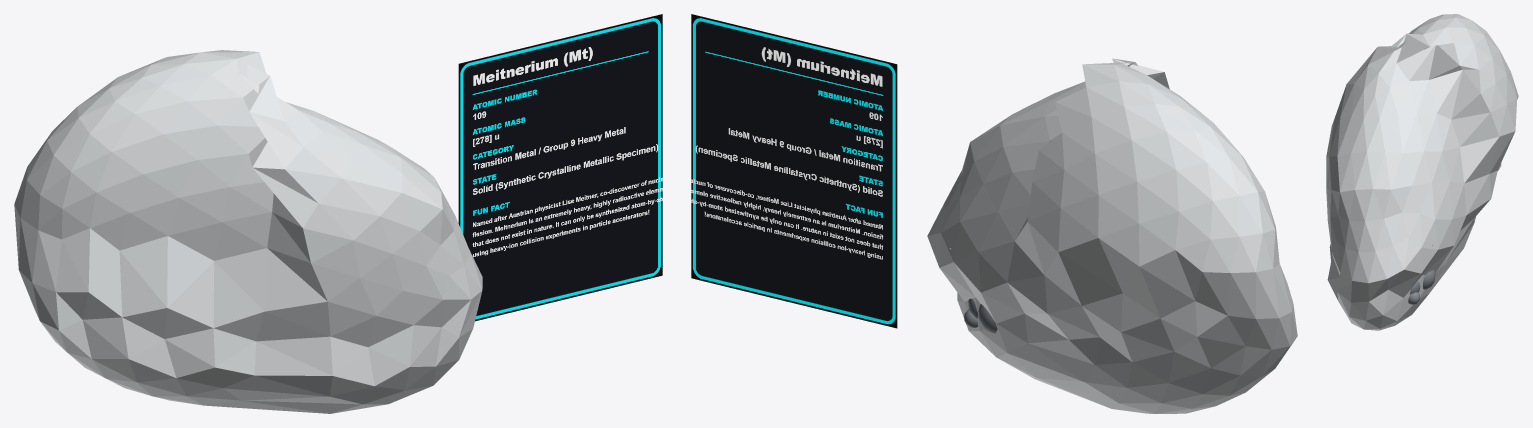
The model's file is meitnerium.glb.
3 renders of one model, left to right at view 1: azimuth 30°, elevation 25°; view 2: azimuth 150°, elevation 25°; view 3: azimuth 270°, elevation 25°, orthographic. The views are drawn at different scales.
Parts seen in each view (by area): view 1: Mesh_0, Mesh_75; view 2: Mesh_0, Mesh_75; view 3: Mesh_0.
Boxes of the visible parts, <box> form: Mesh_0: <box>14,50,482,413</box>; Mesh_75: <box>458,14,662,321</box>; Mesh_0: <box>927,58,1297,413</box>; Mesh_75: <box>691,14,897,328</box>; Mesh_0: <box>1326,14,1518,330</box>.
Bounding box in the file's own units: 3.42 × 1.86 × 1.29.
4 materials, 1 textured.
